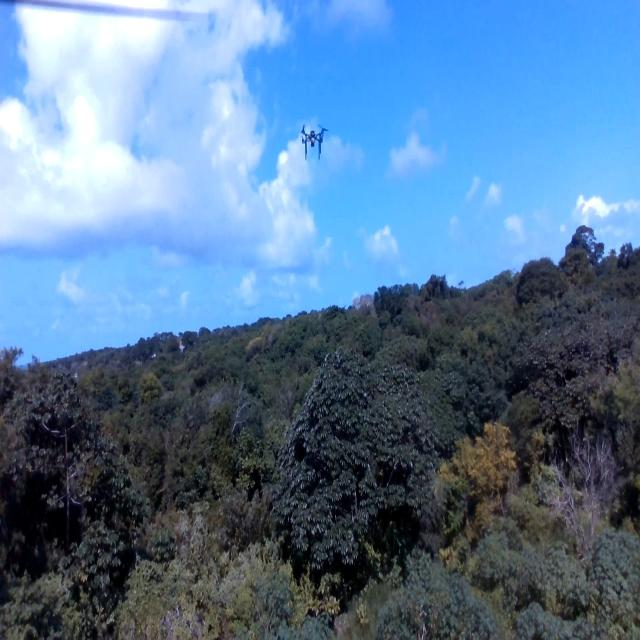-uav-: (296, 116, 331, 164)
